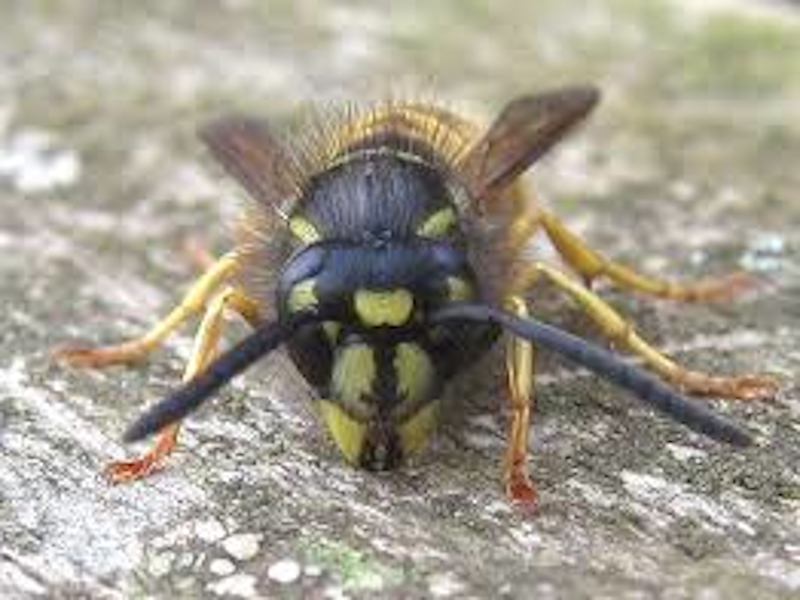chax: (68, 48, 786, 511)
